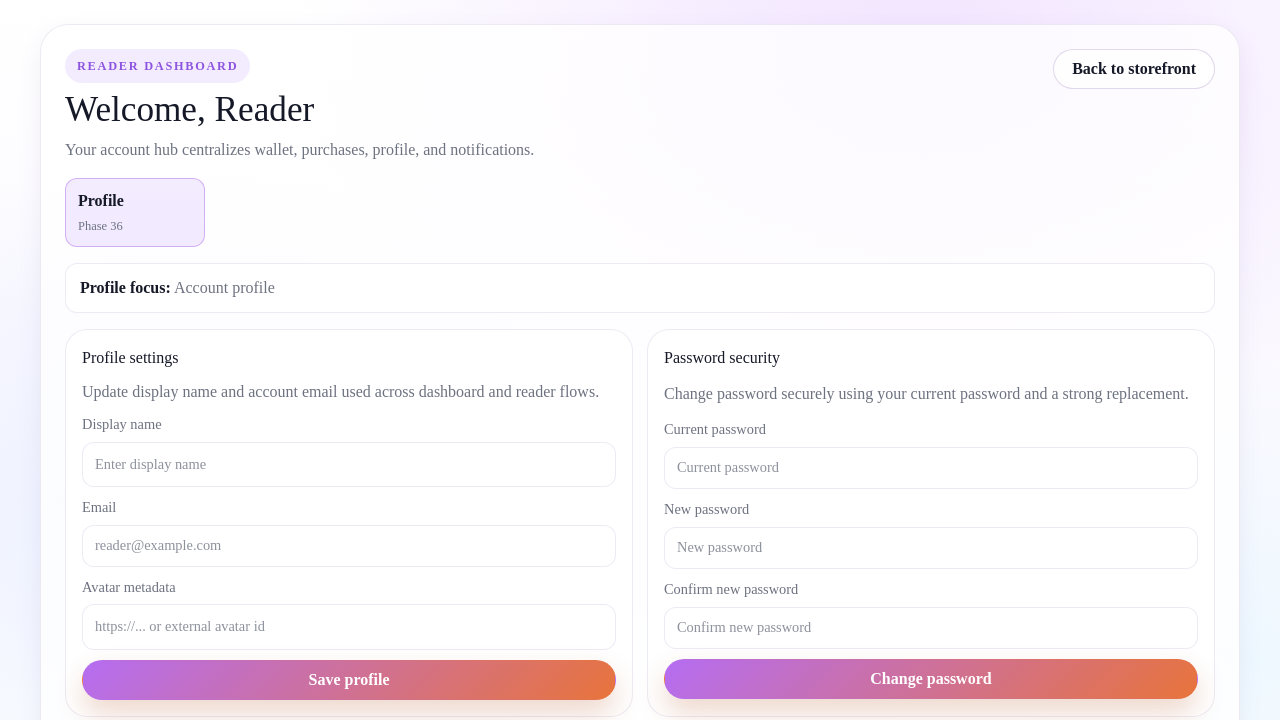
Dashboard profile security DOM › blocks password submit when confirmation does not match
Check: the heading "Password security" is shown, box [664, 349, 780, 366]
Step 1. Type "oldpass123" into the password field with placeholder "Current password" → x=931, y=468, box [664, 447, 1198, 489]
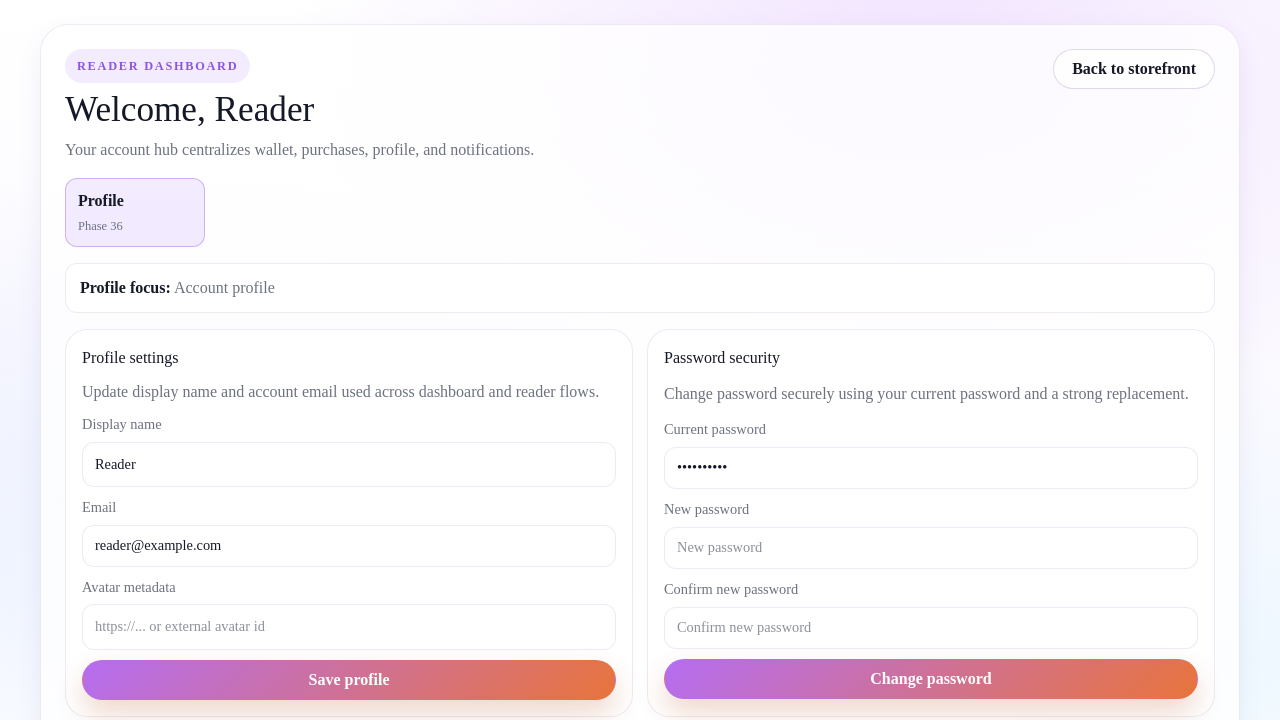
Step 2. Type "newpass123" into the password field with placeholder "New password" → x=931, y=548, box [664, 527, 1198, 569]
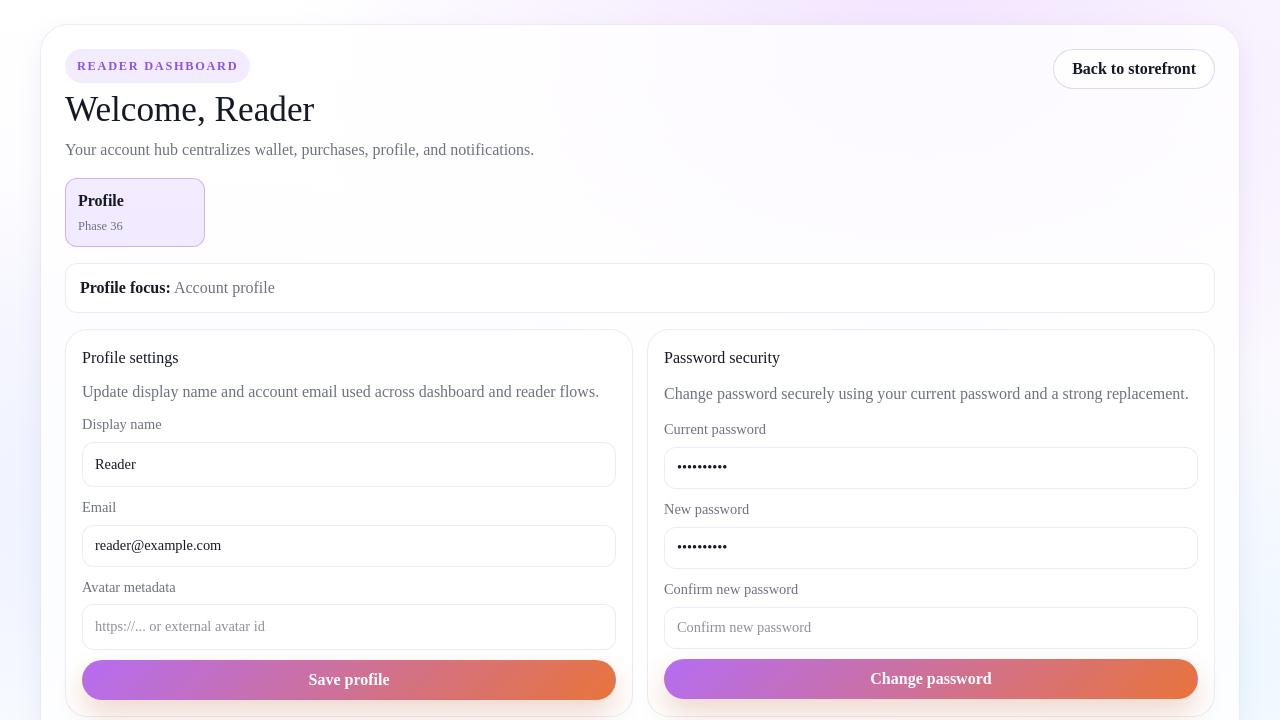
Step 3. Type "different123" into the password field with placeholder "Confirm new password" → x=931, y=628, box [664, 607, 1198, 649]
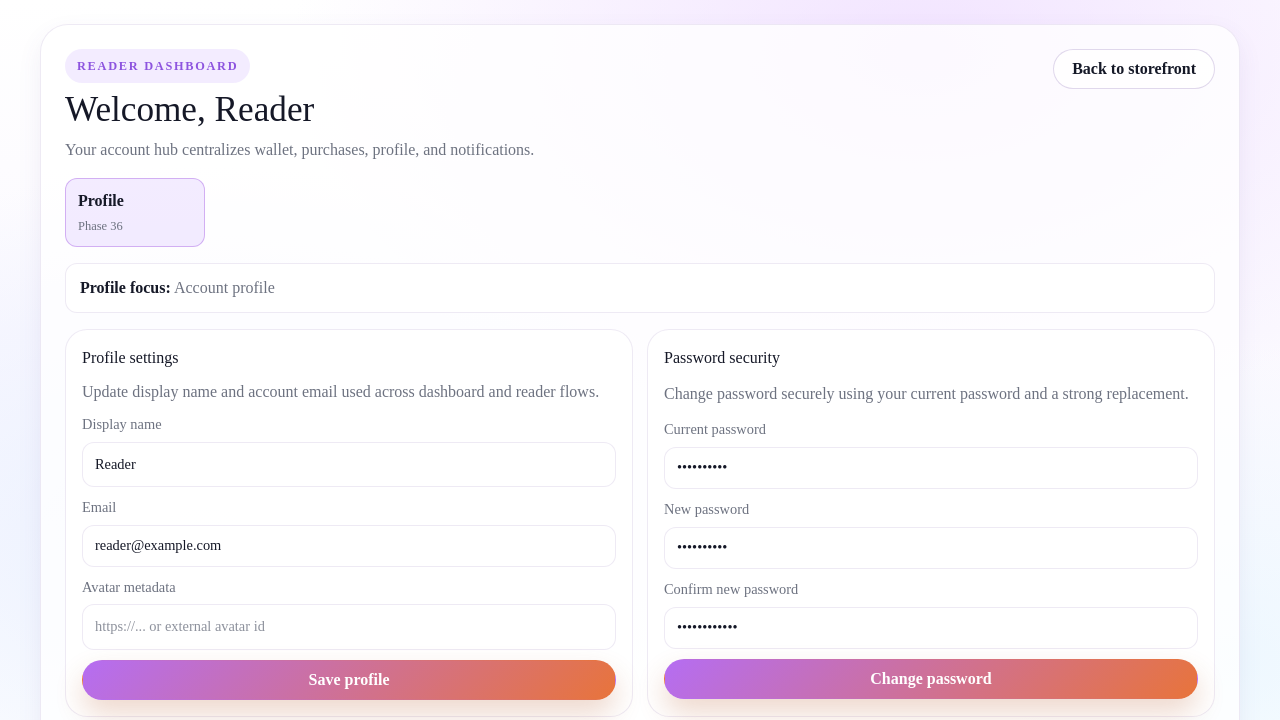
Step 4. Click the button "Change password" → x=931, y=679, box [664, 659, 1198, 699]
(page scrolled)
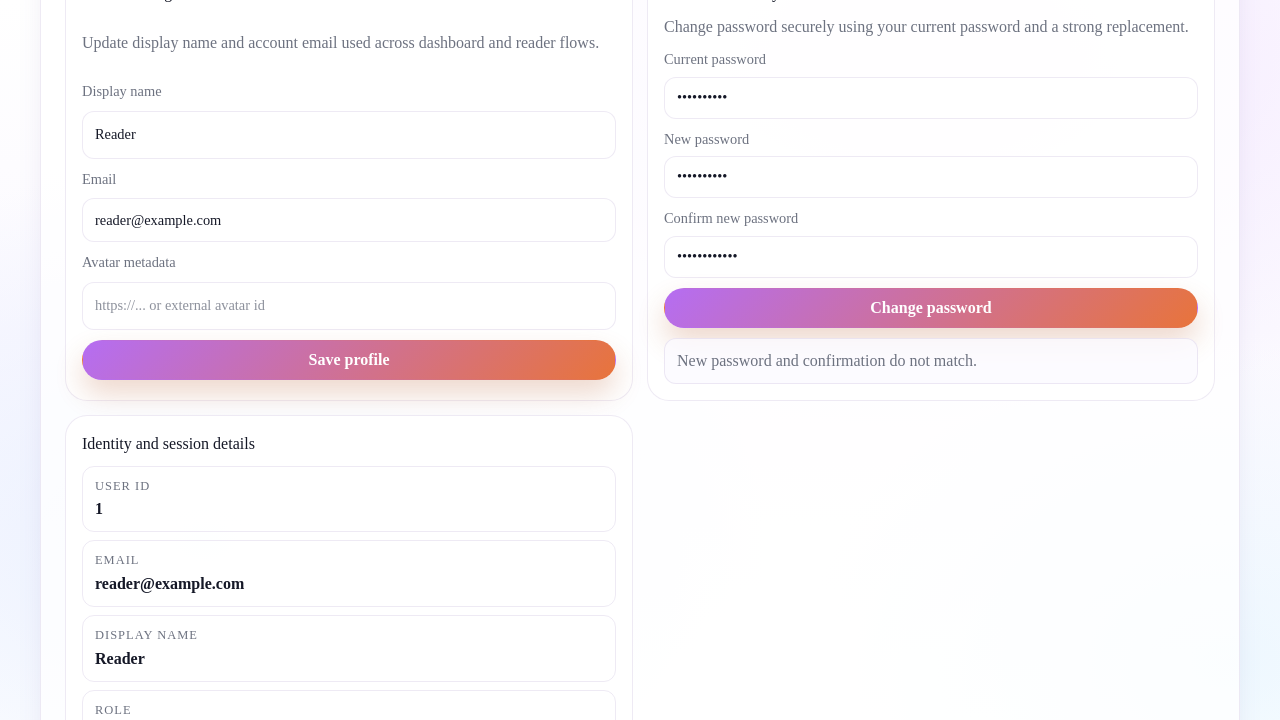
Check: the text "New password and confirmation do not match." is shown, box [664, 338, 1198, 384]
